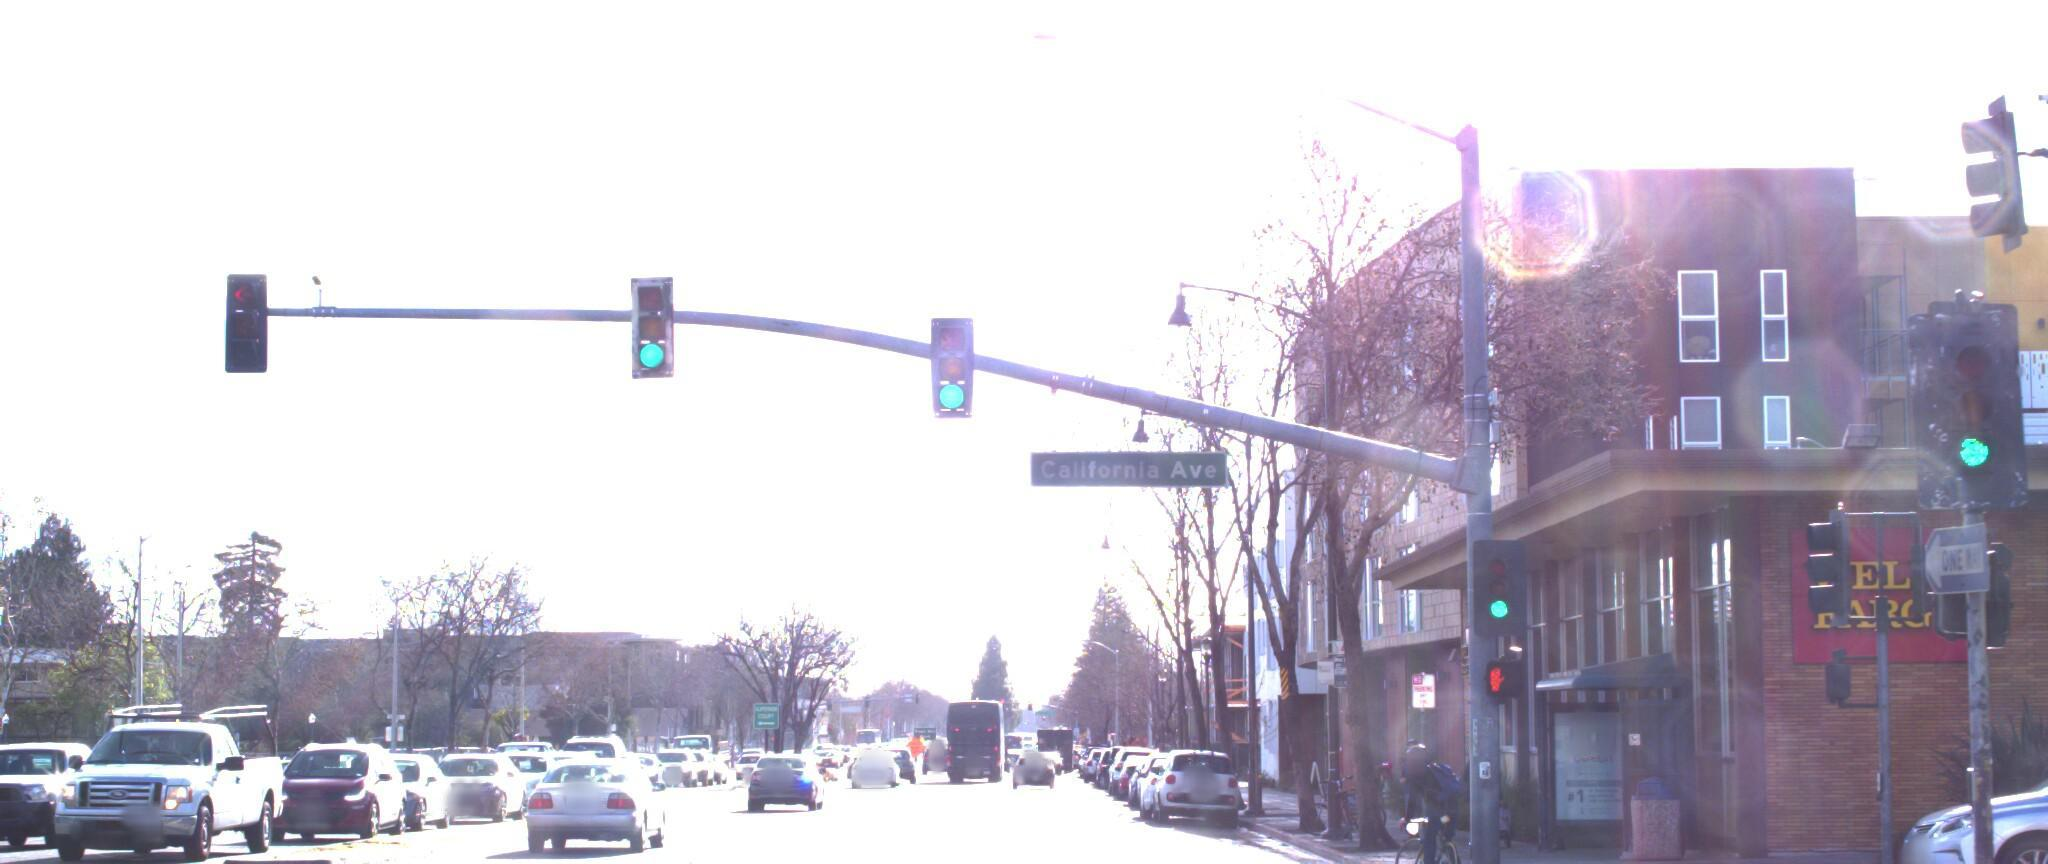bicycle: (1351, 727, 1492, 864)
car: (24, 707, 289, 864), (1847, 713, 2048, 864), (246, 736, 408, 844), (0, 740, 141, 857), (509, 747, 665, 851), (1144, 736, 1242, 825), (2000, 718, 2048, 864), (0, 761, 61, 864), (741, 733, 829, 794)
